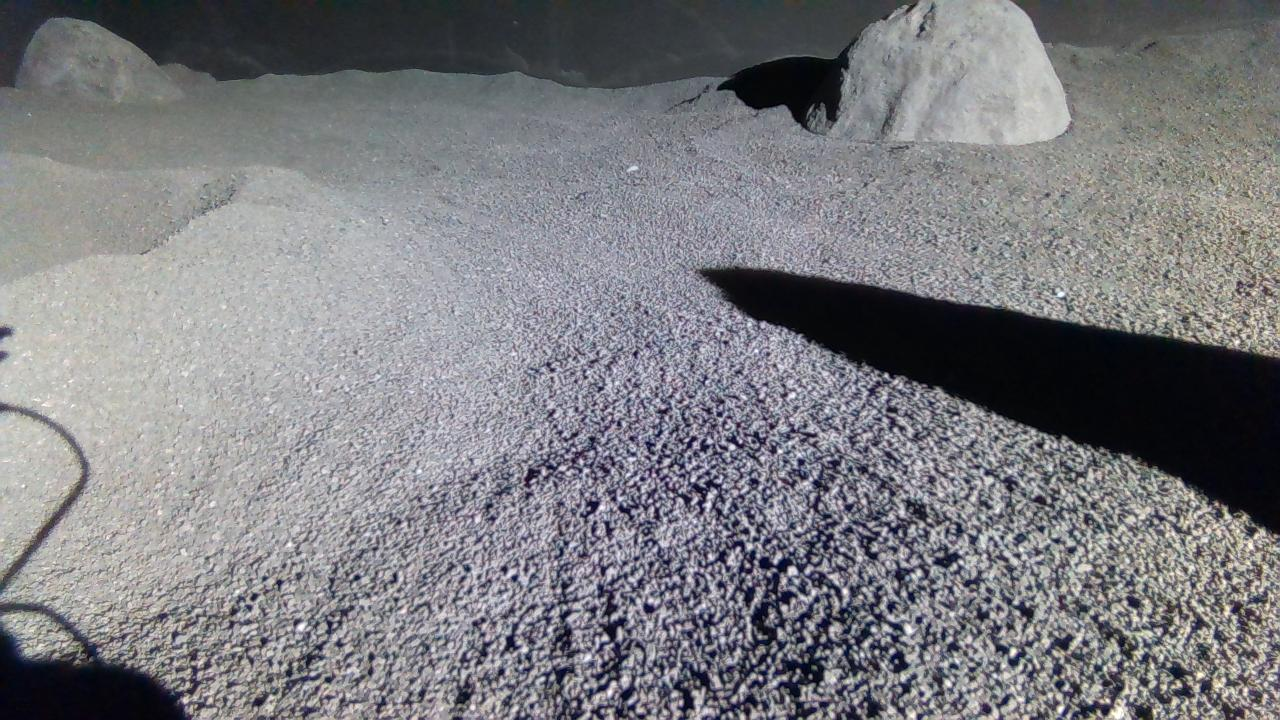rock: (805, 0, 1072, 142), (15, 16, 182, 100)
